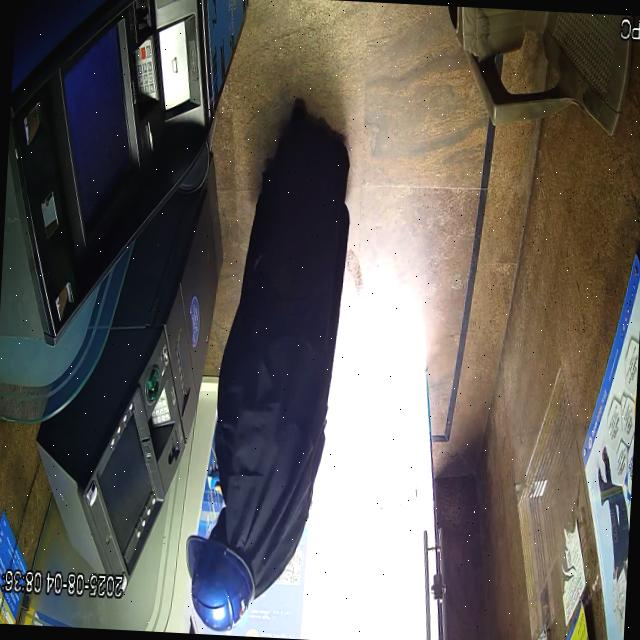helmet: (186, 507, 255, 632)
